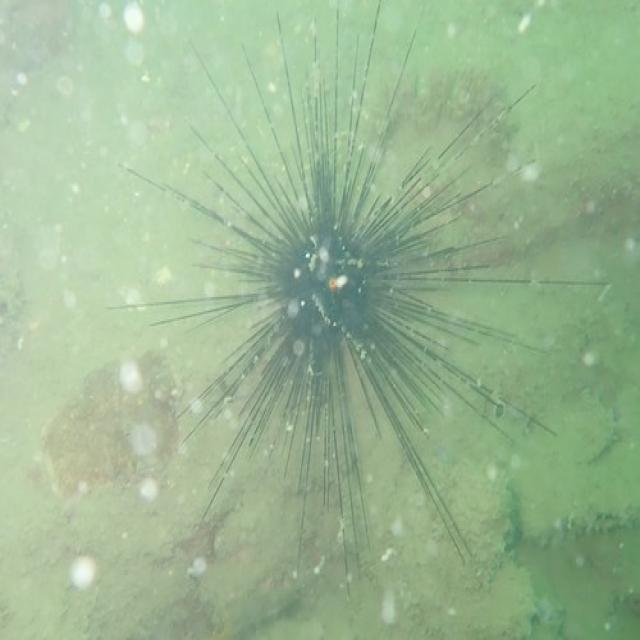Urchin: (102, 2, 608, 577)
